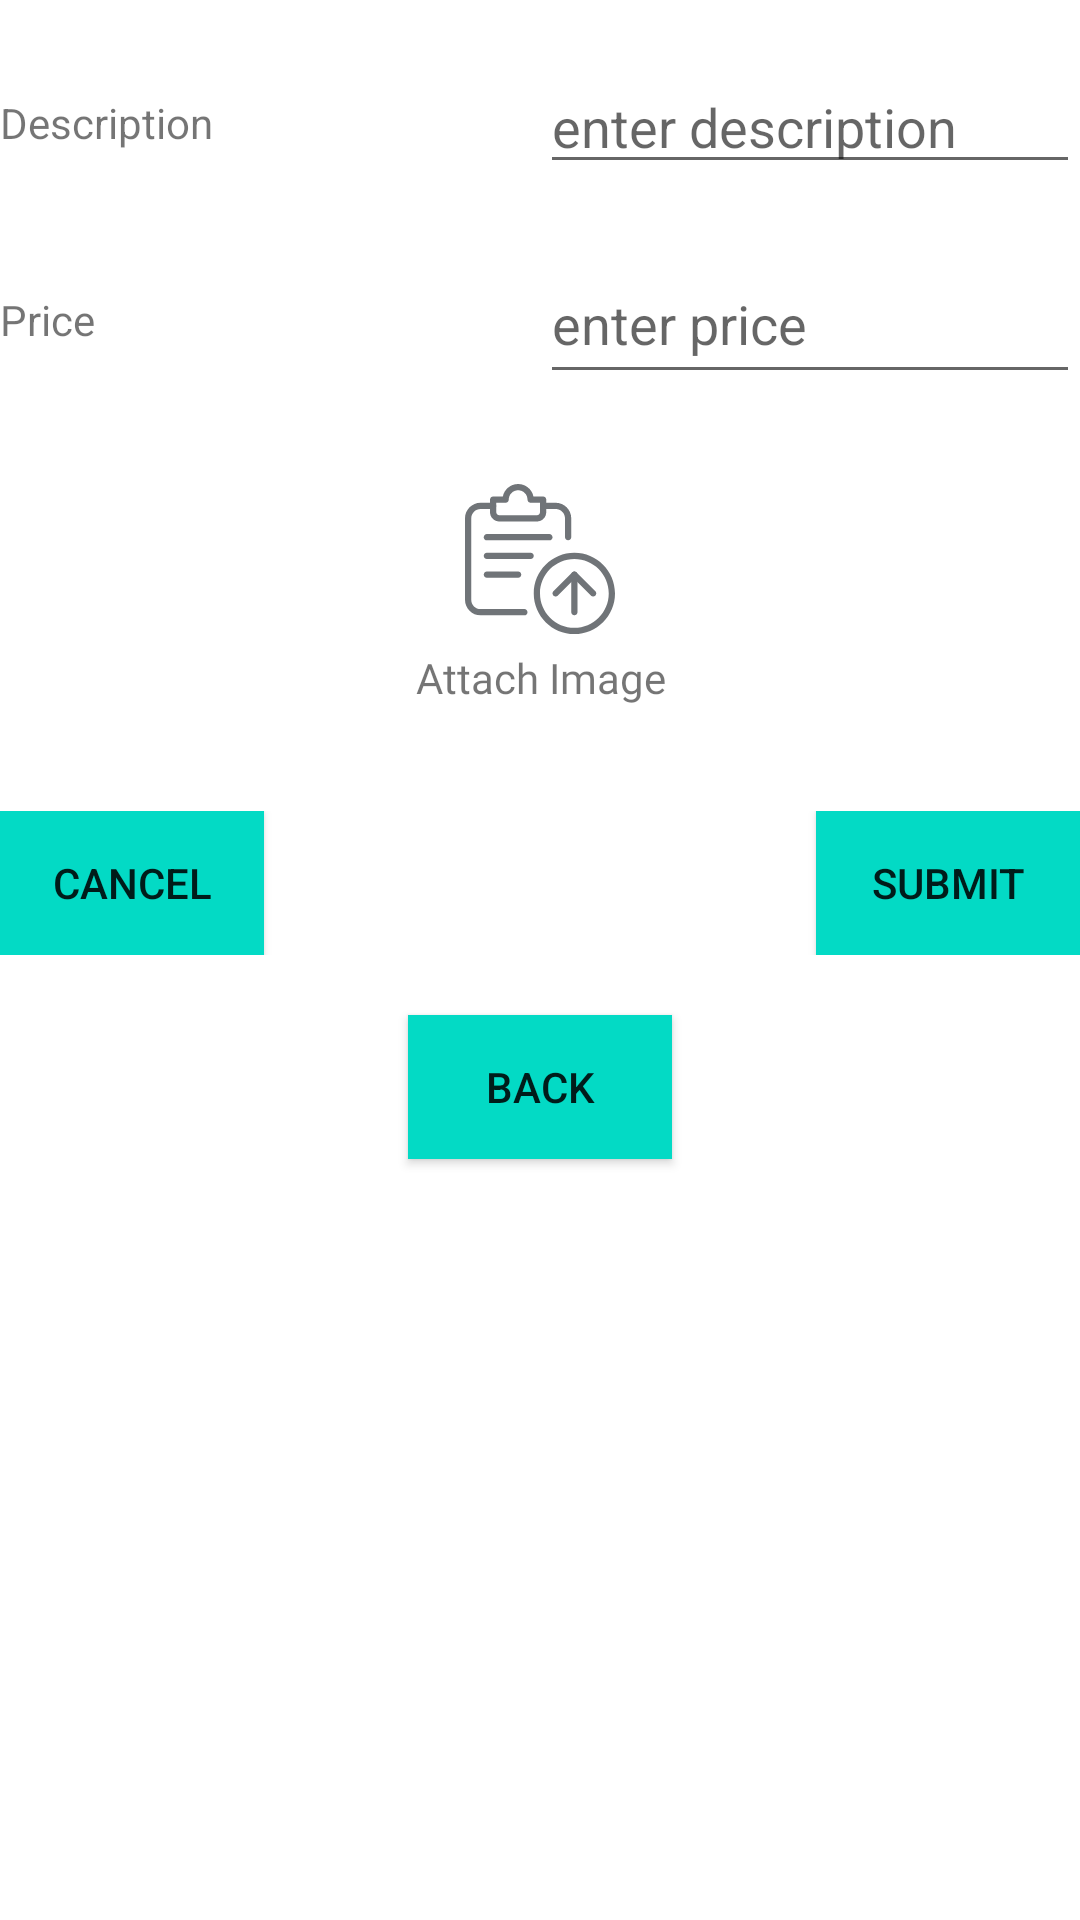

Point at icon controls on the screen. Image size 1080*1920, points as [x,y].
upload: [540,559]
